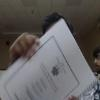notebook: (0, 17, 98, 99)
